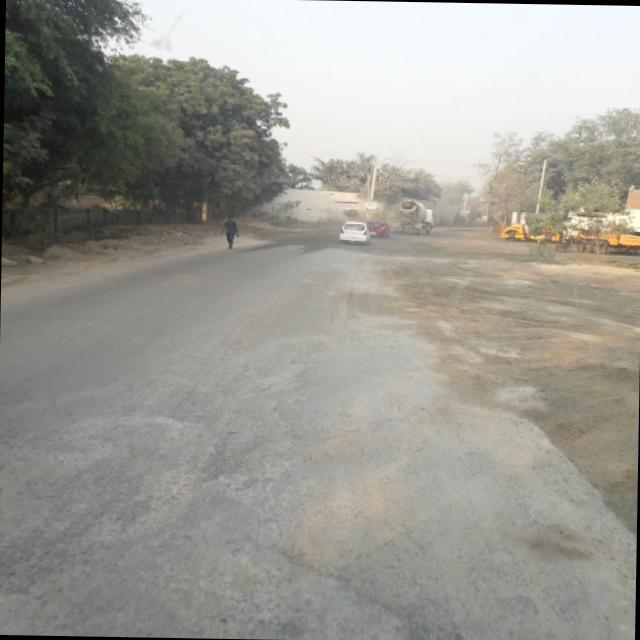pothole: (3, 354, 244, 610)
